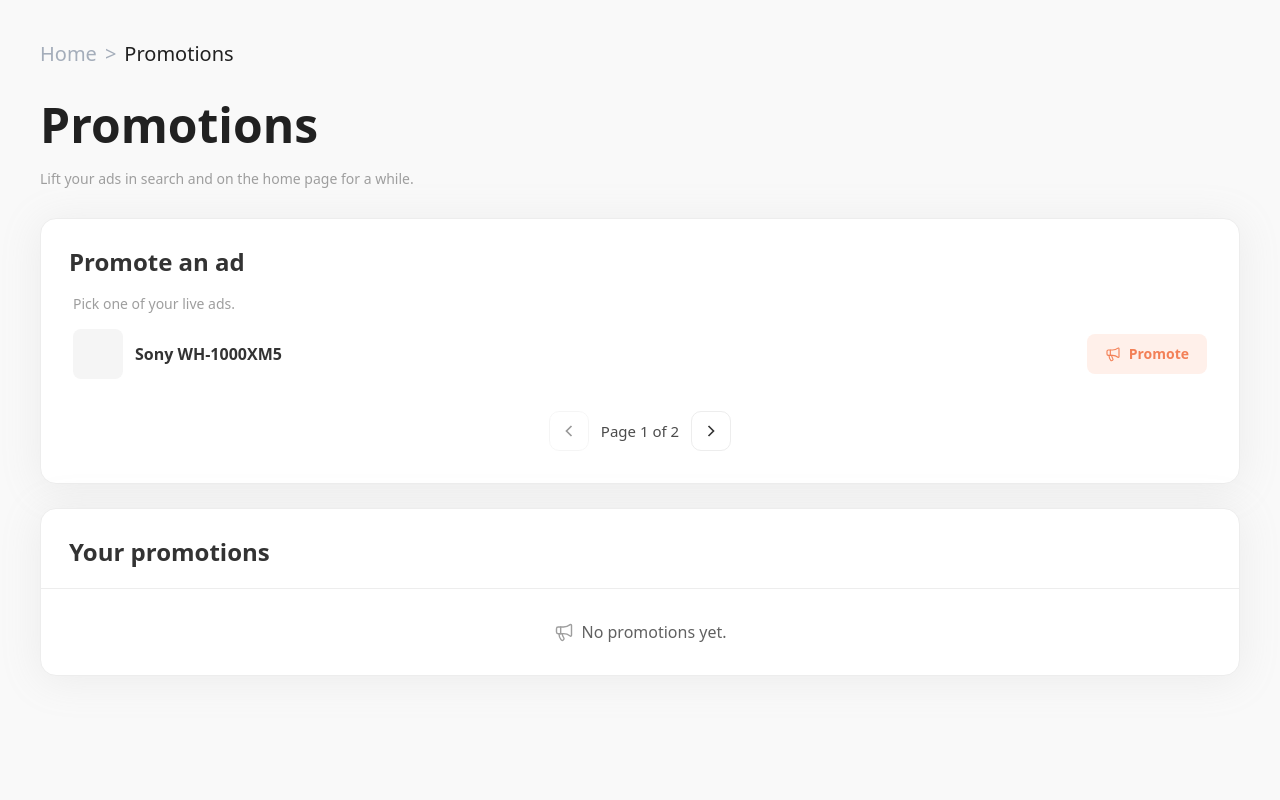
it: PromotionsView › pages through the live ads 20 at a time, as the API serves them
Expected: the text "Sony WH-1000XM5" is shown, top-left (135, 343), bottom-right (282, 365)
Click the button named "Next page": (711, 431) top-left (691, 411), bottom-right (731, 451)
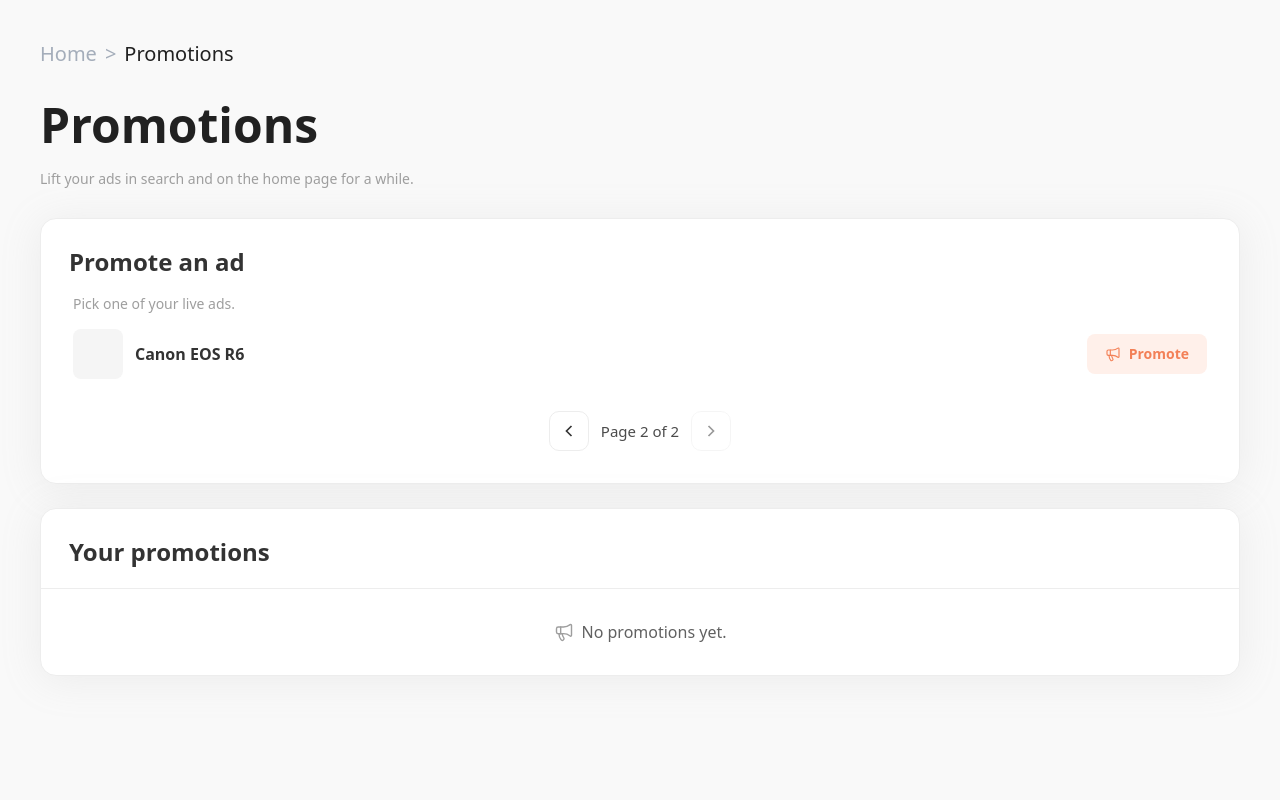
Result: the text "Canon EOS R6" is shown at top-left (135, 343), bottom-right (244, 365)
